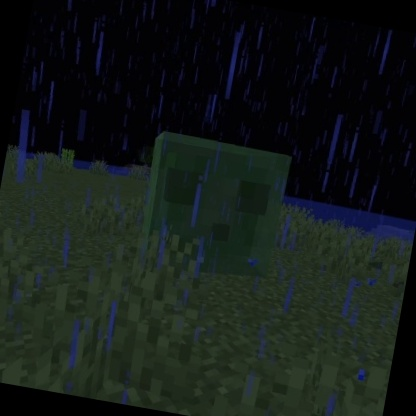slime: (128, 123, 300, 288)
